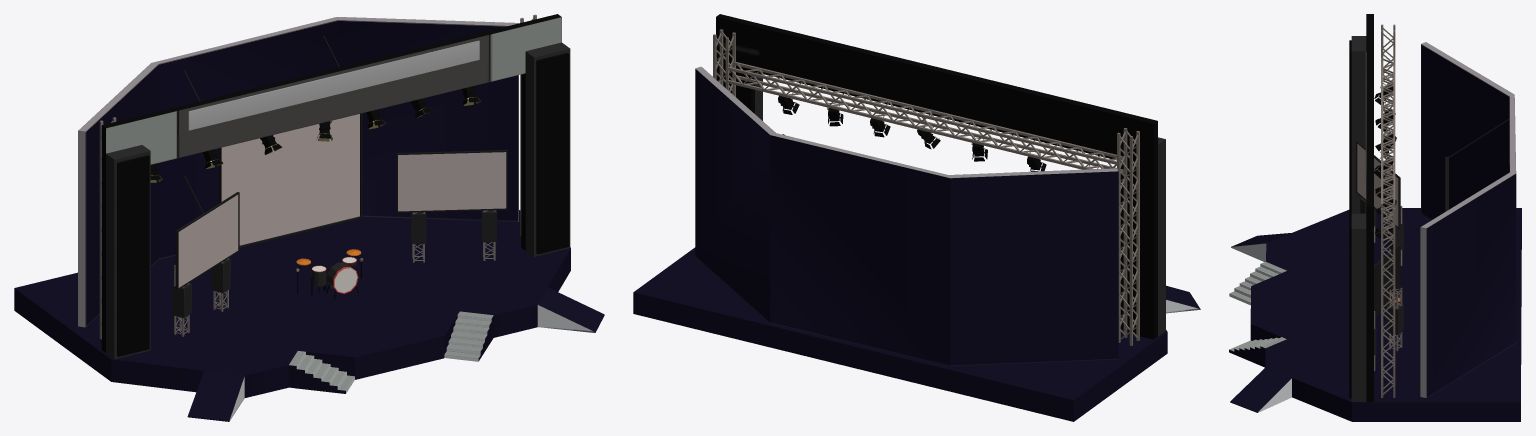
The model's file is palco .fbx.
3 views of the same model, side by side, from view 1: azimuth 30°, elevation 25°; view 2: azimuth 150°, elevation 25°; view 3: azimuth 270°, elevation 25° (orthographic). The views are drawn at different scales.
Visible parts, largest first — view 1: palco; view 2: palco; view 3: palco.
Boxes of the visible parts, x1=… form: palco: x1=14, y1=14, x2=604, y2=421; palco: x1=633, y1=14, x2=1200, y2=421; palco: x1=1229, y1=14, x2=1521, y2=421.
Bounding box in the file's own units: 419 × 216 × 267.
Materials: 1 (1 with a texture image).
